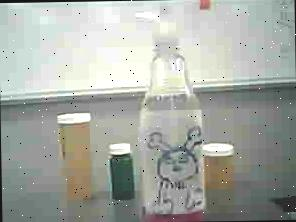Bottle A: (52, 108, 101, 207)
Bottle B: (200, 134, 240, 198)
Bottle C: (106, 138, 143, 204)
hazard: (129, 2, 218, 222)
